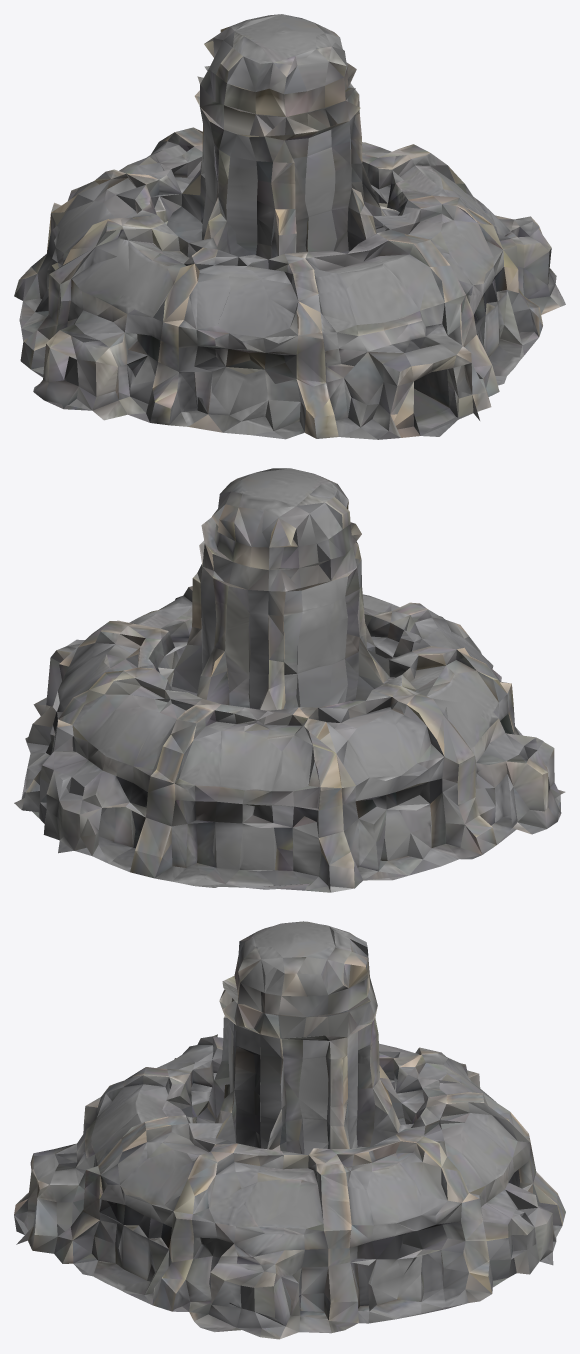
File: imperial_power_plant_lod2.glb
3 views of the same model, one above another, from view 1: azimuth 30°, elevation 25°; view 2: azimuth 150°, elevation 25°; view 3: azimuth 270°, elevation 25° (orthographic). The views are drawn at different scales.
Visible parts, largest first — view 1: mesh_node; view 2: mesh_node; view 3: mesh_node.
Boxes of the visible parts, x1,y1,x2,y2 form: mesh_node: (14, 14, 565, 439); mesh_node: (14, 468, 565, 892); mesh_node: (14, 921, 565, 1339).
Size of the model in its own units: 29.78 by 16.76 by 28.7.
Materials: 1 (1 with a texture image).
